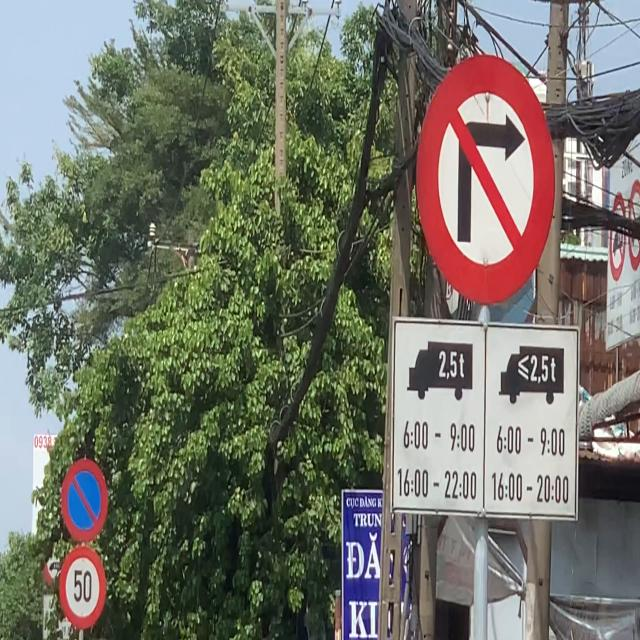Cam do: (60, 446, 112, 546)
Cam re phai: (412, 42, 558, 316)
Toc do toi da: (54, 540, 112, 630)
